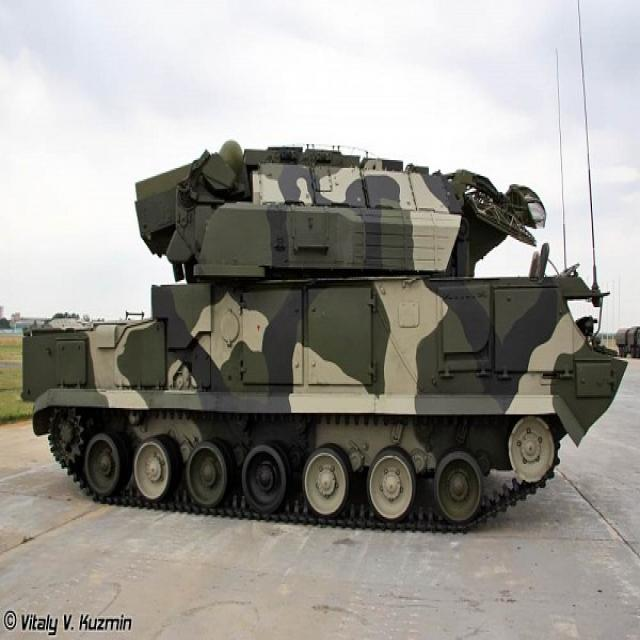MIL_EW_RDR: (25, 158, 628, 529)
